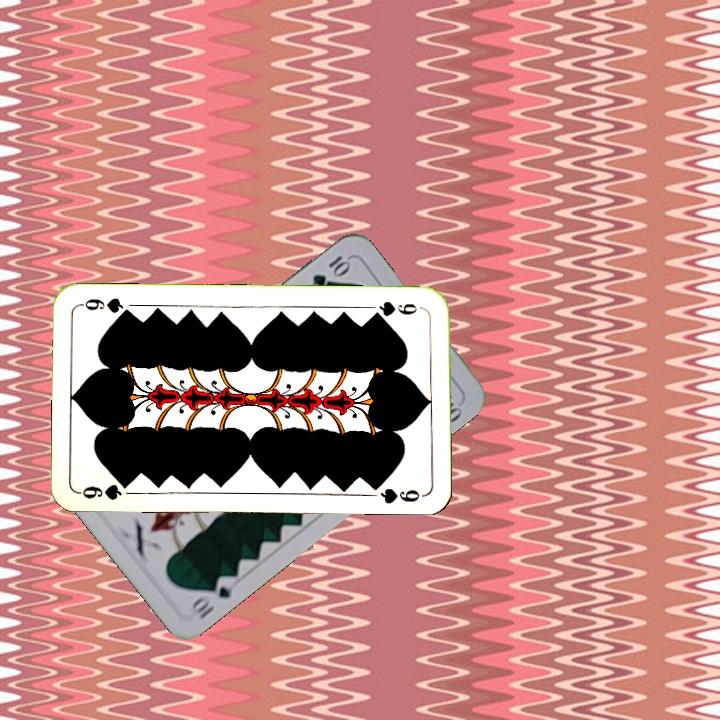G10: (188, 571, 240, 622), (308, 251, 353, 291)
G9: (76, 476, 135, 502), (367, 297, 419, 320)
